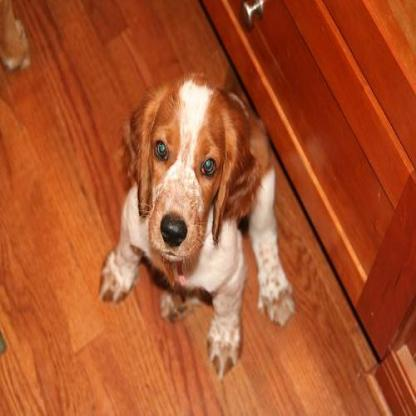Welsh_springer_spaniel: (99, 78, 295, 372)
